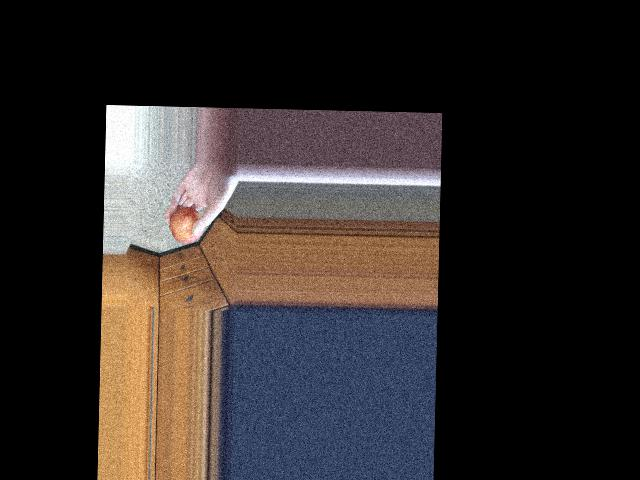apple: (166, 200, 209, 248)
